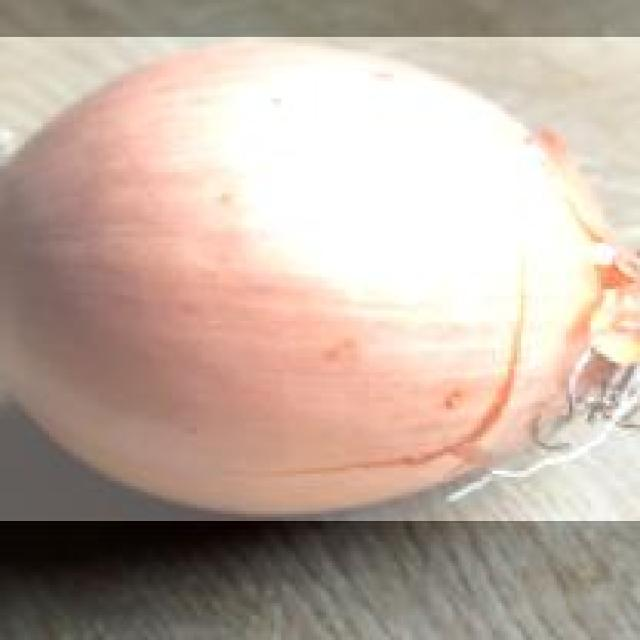onion: (0, 37, 640, 523)
